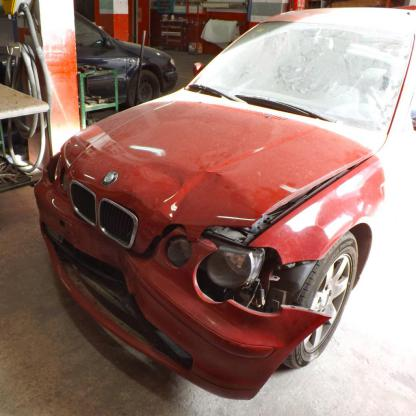front_bumper: (36, 170, 334, 401)
headlamp: (201, 248, 263, 283)
hood: (61, 89, 381, 253)
